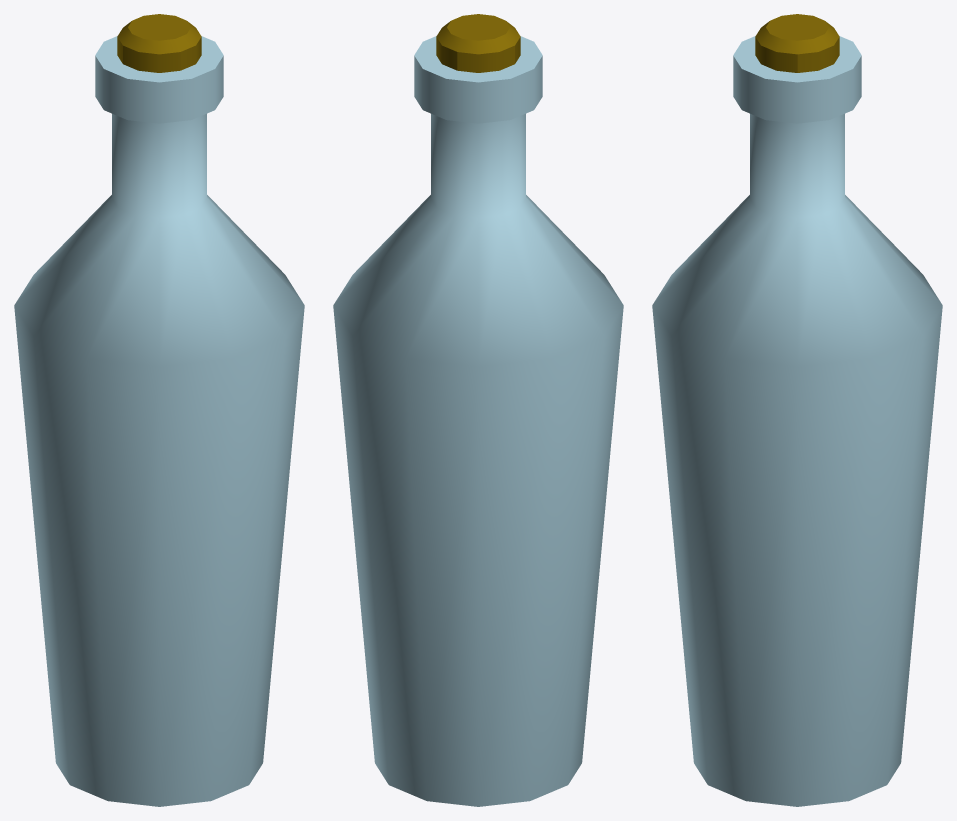
File: Bottle_v4_001.fbx
3 renders of one model, left to right at view 1: azimuth 30°, elevation 25°; view 2: azimuth 150°, elevation 25°; view 3: azimuth 270°, elevation 25°, orthographic.
Visible parts, largest first — view 1: Bottle_v4_001; view 2: Bottle_v4_001; view 3: Bottle_v4_001.
Boxes of the visible parts, <box> form: Bottle_v4_001: <box>14,14,304,806</box>; Bottle_v4_001: <box>333,14,623,806</box>; Bottle_v4_001: <box>652,14,942,806</box>.
Bounding box in the file's own units: 26.32 × 73.53 × 26.32.
